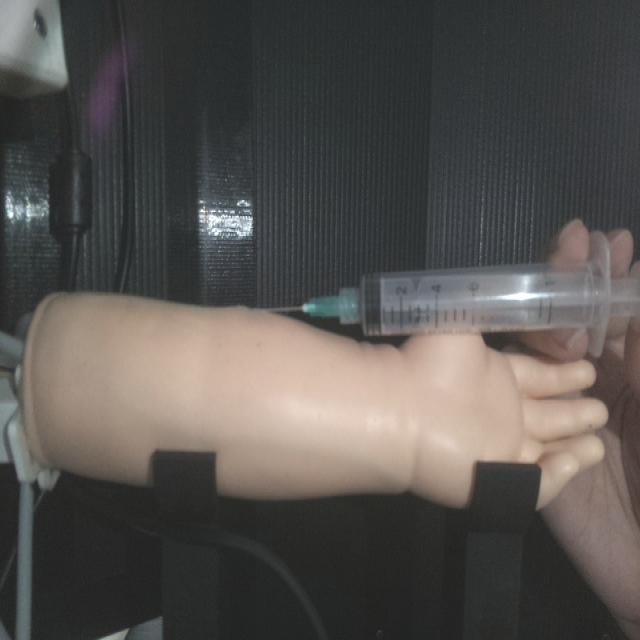Below 15 degrees: (257, 247, 638, 348)
